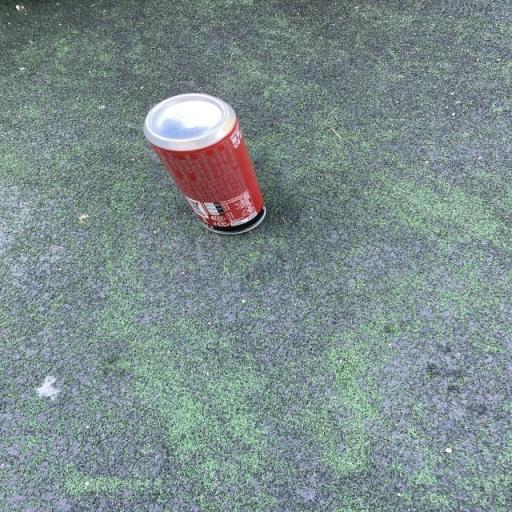metal: (128, 81, 286, 250)
